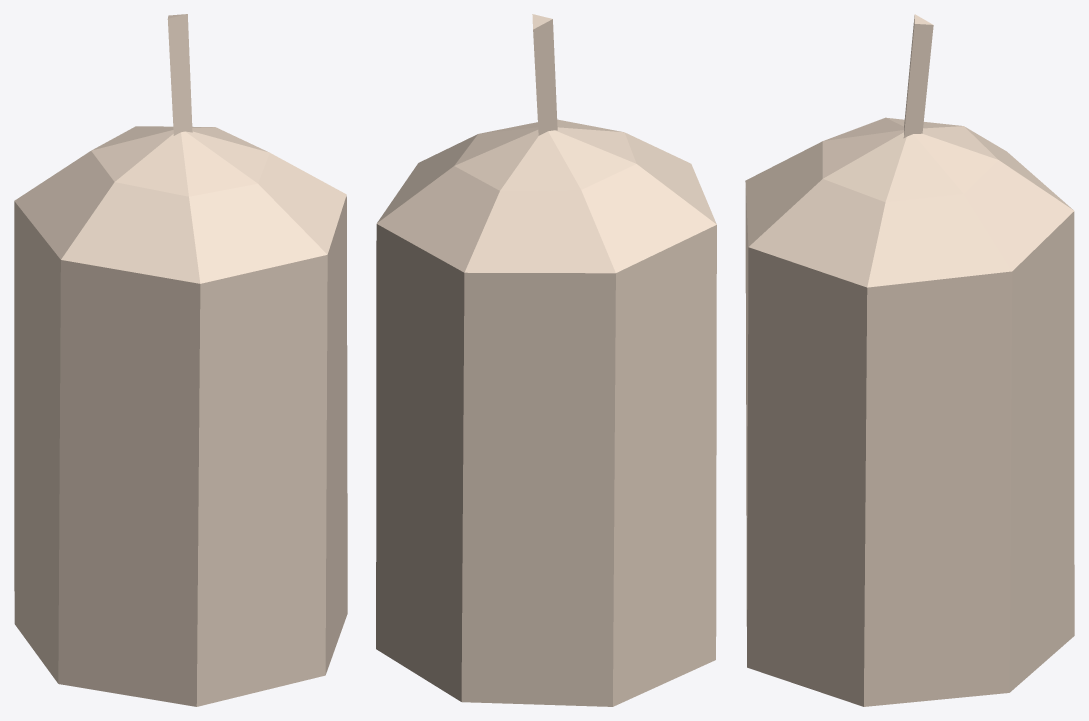
Rendered from survival_candle.fbx.
3 renders of one model, left to right at view 1: azimuth 30°, elevation 25°; view 2: azimuth 150°, elevation 25°; view 3: azimuth 270°, elevation 25°, orthographic. The views are drawn at different scales.
Visible parts, largest first — view 1: survival_candle; view 2: survival_candle; view 3: survival_candle.
Boxes of the visible parts, x1,y1,x2,y2 form: survival_candle: [14, 14, 347, 706]; survival_candle: [376, 14, 716, 706]; survival_candle: [745, 14, 1074, 706].
Size of the model in its own units: 98.94 by 200 by 96.64.
